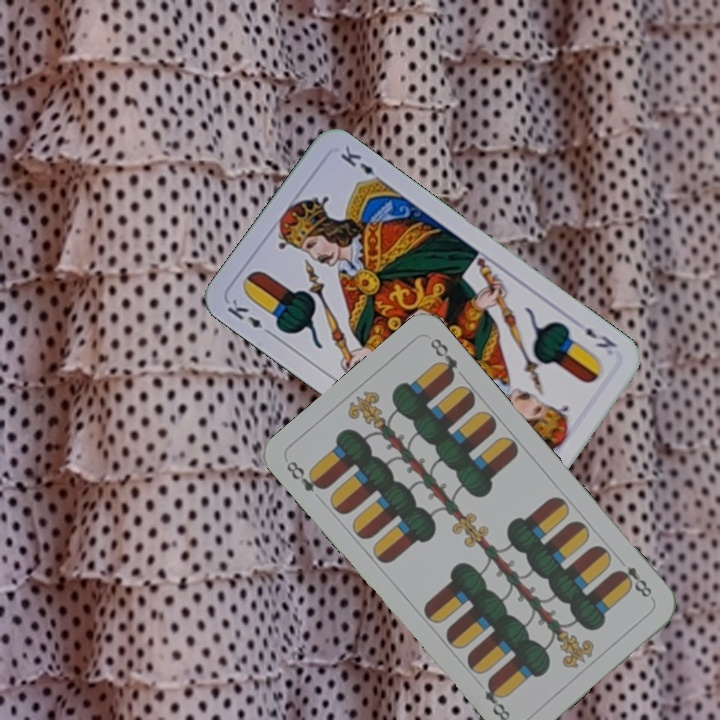E8: (282, 457, 329, 495), (611, 562, 655, 601)
EK: (223, 295, 276, 339), (581, 323, 620, 351)
